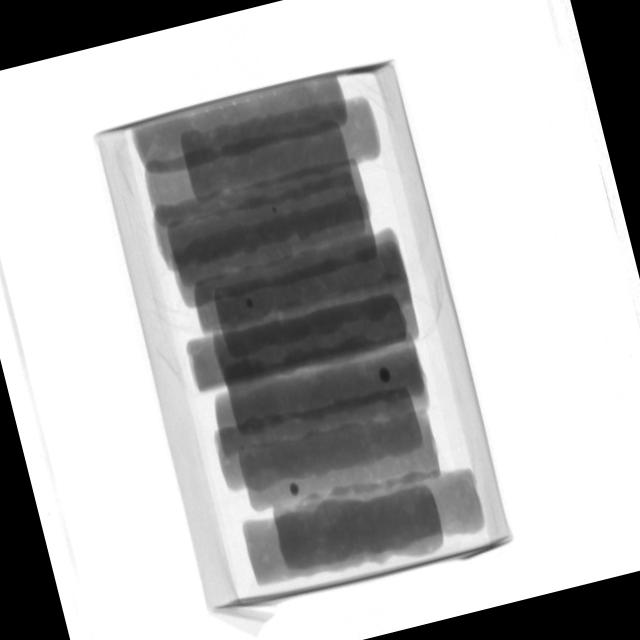ym: (377, 366, 392, 384), (269, 202, 280, 218), (289, 482, 301, 495), (246, 298, 255, 309)
